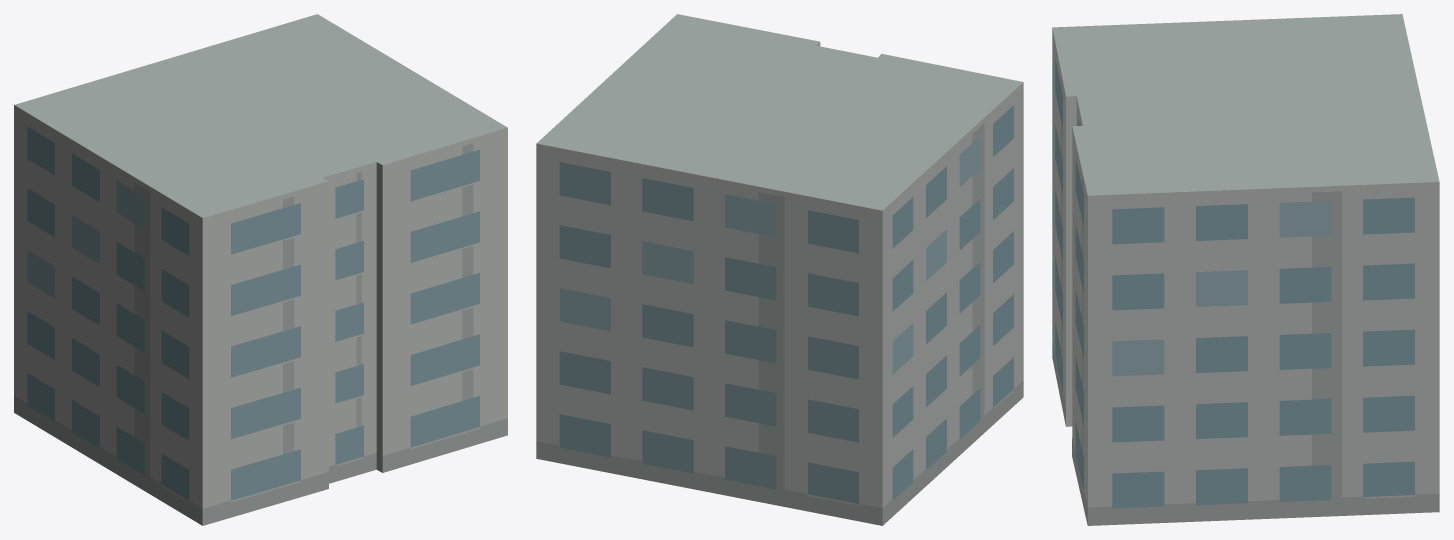
Rendered from survey-upis-32951759.glb.
The picture shows the model from 3 angles, left to right: view 1: azimuth 30°, elevation 25°; view 2: azimuth 150°, elevation 25°; view 3: azimuth 270°, elevation 25°; orthographic projection. The views are drawn at different scales.
Visible parts, largest first — view 1: survey-upis-32951759.tmp; view 2: survey-upis-32951759.tmp; view 3: survey-upis-32951759.tmp.
Boxes of the visible parts, x1,y1,x2,y2 form: survey-upis-32951759.tmp: (14, 14, 507, 525); survey-upis-32951759.tmp: (536, 14, 1023, 525); survey-upis-32951759.tmp: (1052, 14, 1439, 525).
Size of the model in its own units: 17.12 by 14.5 by 15.42.
